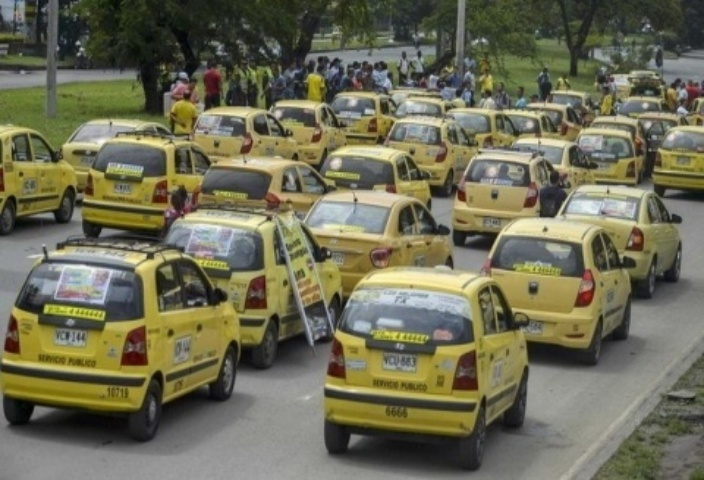taxi: (14, 236, 246, 437), (325, 266, 537, 464), (166, 200, 345, 369), (487, 215, 640, 364), (554, 180, 685, 296), (311, 183, 452, 287), (64, 93, 192, 206), (201, 152, 329, 246), (87, 135, 195, 237), (454, 137, 567, 234), (1, 112, 81, 243), (323, 144, 437, 227), (197, 99, 305, 175), (257, 93, 350, 162), (507, 133, 597, 199), (392, 113, 477, 181), (569, 121, 644, 186), (439, 99, 515, 163), (328, 83, 399, 146), (641, 126, 704, 194)
